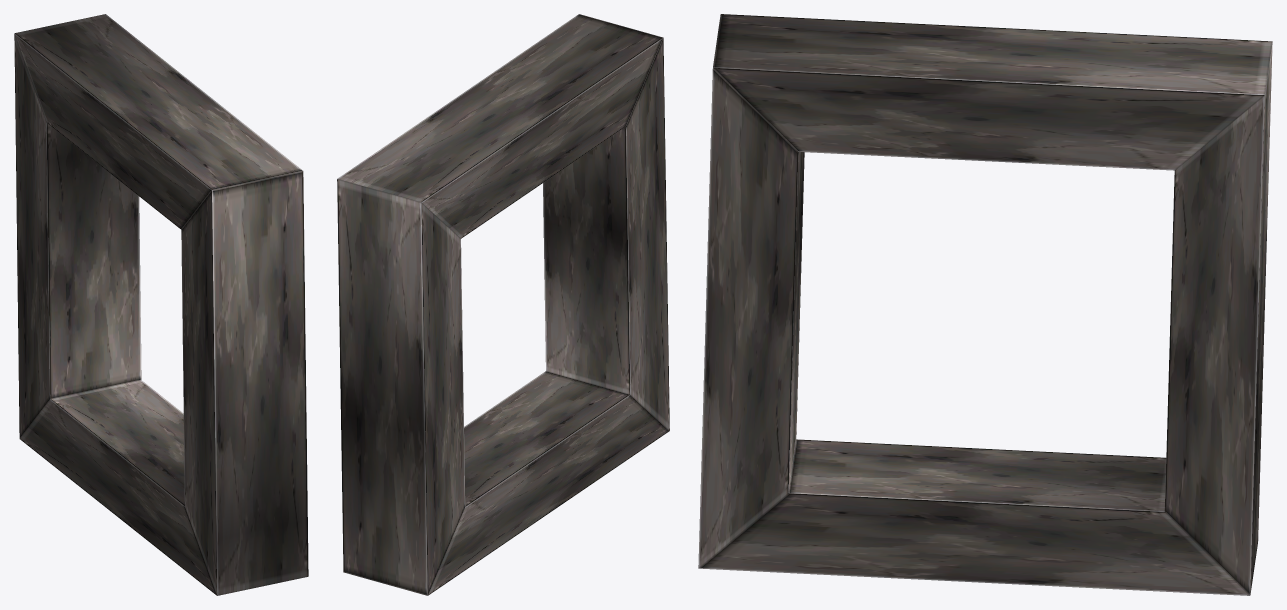
The model's file is CH09_SMAUG_PLAYSURFACE_LAIR88.fbx.
3 views of the same model, side by side, from view 1: azimuth 30°, elevation 25°; view 2: azimuth 150°, elevation 25°; view 3: azimuth 270°, elevation 25° (orthographic). The views are drawn at different scales.
Parts seen in each view (by area): view 1: CH09_SMAUG_PLAYSURFACE_LAIR88; view 2: CH09_SMAUG_PLAYSURFACE_LAIR88; view 3: CH09_SMAUG_PLAYSURFACE_LAIR88.
Boxes of the visible parts, box(x1,y1,x2,y2) form: CH09_SMAUG_PLAYSURFACE_LAIR88: box(14, 14, 308, 595); CH09_SMAUG_PLAYSURFACE_LAIR88: box(337, 14, 669, 595); CH09_SMAUG_PLAYSURFACE_LAIR88: box(698, 14, 1272, 595).
Size of the model in its own units: 4067 by 14249 by 14418.
Materials: 1 (1 with a texture image).
